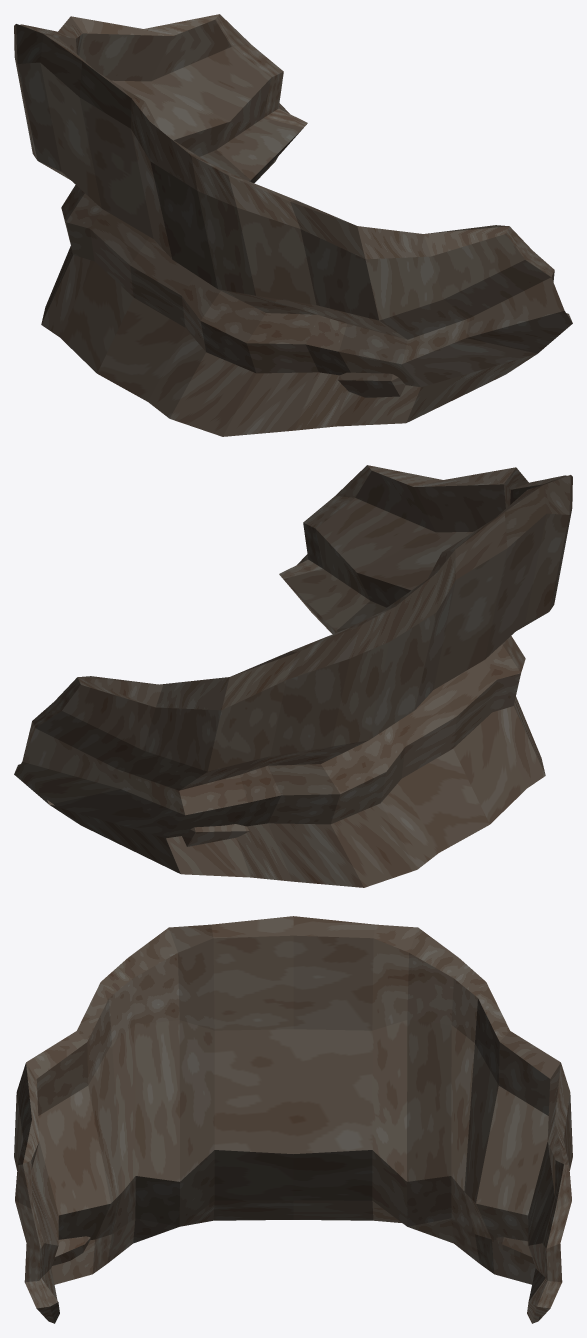
Rendered from paracaidascerrado.fbx.
The picture shows the model from 3 angles, top to bottom: view 1: azimuth 30°, elevation 25°; view 2: azimuth 150°, elevation 25°; view 3: azimuth 270°, elevation 25°; orthographic projection. The views are drawn at different scales.
Visible parts, largest first — view 1: paracaidasguardado; view 2: paracaidasguardado; view 3: paracaidasguardado.
Boxes of the visible parts, x1,y1,x2,y2 form: paracaidasguardado: (14,14,572,436); paracaidasguardado: (14,465,572,887); paracaidasguardado: (14,916,572,1323).
Size of the model in its own units: 20.22 by 17.42 by 29.21.
